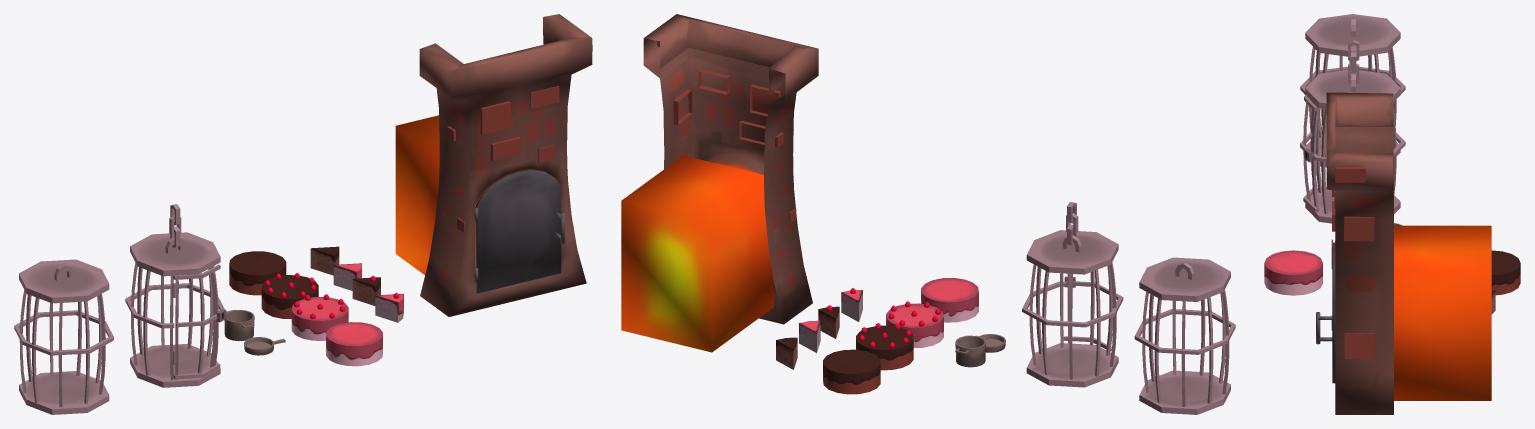
The model's file is props casa bruja.fbx.
3 views of the same model, side by side, from view 1: azimuth 30°, elevation 25°; view 2: azimuth 150°, elevation 25°; view 3: azimuth 270°, elevation 25° (orthographic).
Parts seen in each view (by area): view 1: Oven, cage, Door, cageHansel, cakePink, DoorCage, CakePinkStrawberry, cakeChocolate, cakeChocolateStrawberry, cooking pot, pieceCakeStrawberry, pieceCakeChocolate (+3 smaller); view 2: Oven, cage, cageHansel, cakeChocolate, cakePink, cakeChocolateStrawberry, CakePinkStrawberry, DoorCage, cooking pot, pieceCakeStrawberry, pieceCakeChocolate, pieceCakePink (+1 smaller); view 3: Oven, cage, cageHansel, cakePink, DoorCage, cakeChocolate, Door.
Part boxes in pixels (x1,y1,x2,y2): Oven: (395, 14, 592, 316); cage: (14, 259, 113, 414); Door: (474, 169, 564, 293); cageHansel: (125, 204, 224, 387); cakePink: (326, 322, 382, 366); DoorCage: (172, 264, 226, 379); CakePinkStrawberry: (291, 294, 348, 340); cakeChocolate: (229, 251, 286, 295); cakeChocolateStrawberry: (261, 272, 318, 318); cooking pot: (224, 310, 254, 341); pieceCakeStrawberry: (375, 292, 403, 322); pieceCakeChocolate: (310, 246, 339, 275); Oven: (621, 14, 818, 352); cage: (1134, 257, 1235, 414); cageHansel: (1022, 202, 1123, 387); cakeChocolate: (823, 349, 880, 394); cakePink: (921, 278, 978, 322); cakeChocolateStrawberry: (856, 323, 913, 370); CakePinkStrawberry: (886, 301, 943, 347); DoorCage: (1063, 266, 1111, 351); cooking pot: (955, 335, 986, 367); pieceCakeStrawberry: (841, 288, 862, 321); pieceCakeChocolate: (776, 337, 797, 369); pieceCakePink: (799, 320, 820, 352); Oven: (1326, 92, 1491, 414); cage: (1300, 14, 1405, 167); cageHansel: (1305, 40, 1405, 223); cakePink: (1264, 250, 1322, 295); DoorCage: (1300, 95, 1319, 212); cakeChocolate: (1491, 250, 1520, 295); Door: (1316, 242, 1335, 383).
Bounding box in the file's own units: 2252 × 956 × 873.
Materials: 1 (1 with a texture image).
